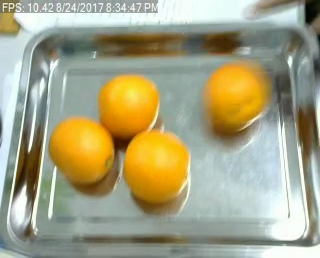Orange: (124, 131, 190, 203), (49, 115, 114, 184), (206, 65, 266, 133), (97, 74, 158, 137)
